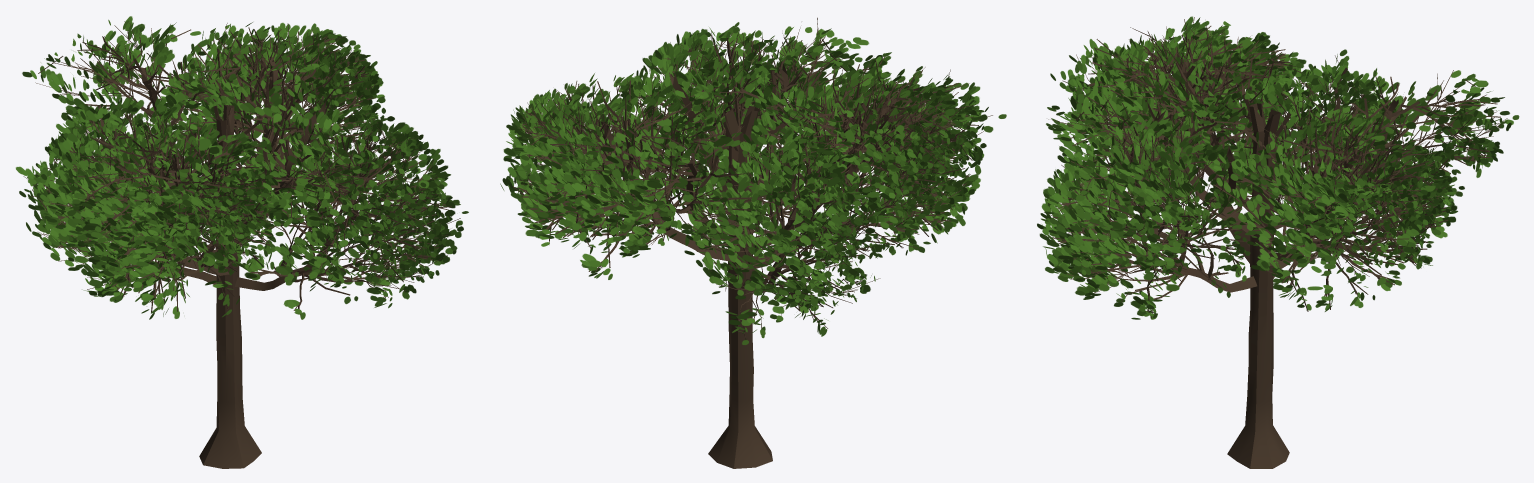
The picture shows the model from 3 angles, left to right: view 1: azimuth 30°, elevation 25°; view 2: azimuth 150°, elevation 25°; view 3: azimuth 270°, elevation 25°; orthographic projection.
Visible parts, largest first — view 1: oak 01.001_trunk_Mat.001_0.070; view 2: oak 01.001_trunk_Mat.001_0.070; view 3: oak 01.001_trunk_Mat.001_0.070.
Boxes of the visible parts, x1,y1,x2,y2 form: oak 01.001_trunk_Mat.001_0.070: (15,16,468,468); oak 01.001_trunk_Mat.001_0.070: (500,17,1006,468); oak 01.001_trunk_Mat.001_0.070: (1037,16,1519,468).
Bounding box in the file's own units: 4.84 × 4.21 × 5.04.
Materials: 2 (1 with a texture image).
